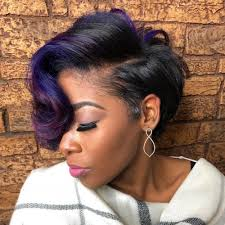black_female: (55, 51, 172, 193)
